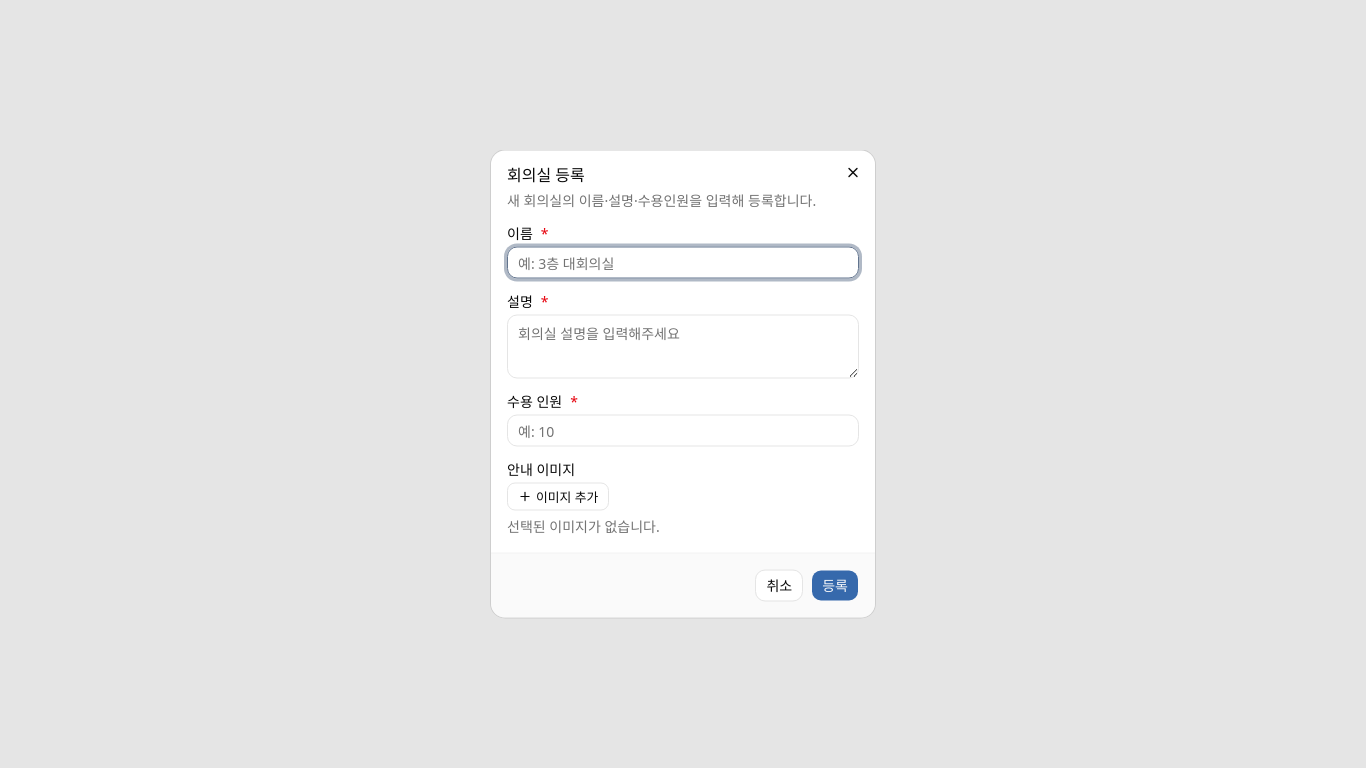
Test: MeetingRoomCreateDialog › 서버 검증 실패 시 다이얼로그가 닫히지 않고 root 에러가 표시된다(실패가 삼켜지지 않음)
In the field labelled "이름 *": (683, 262) [507,246,859,278], type "대회의실"
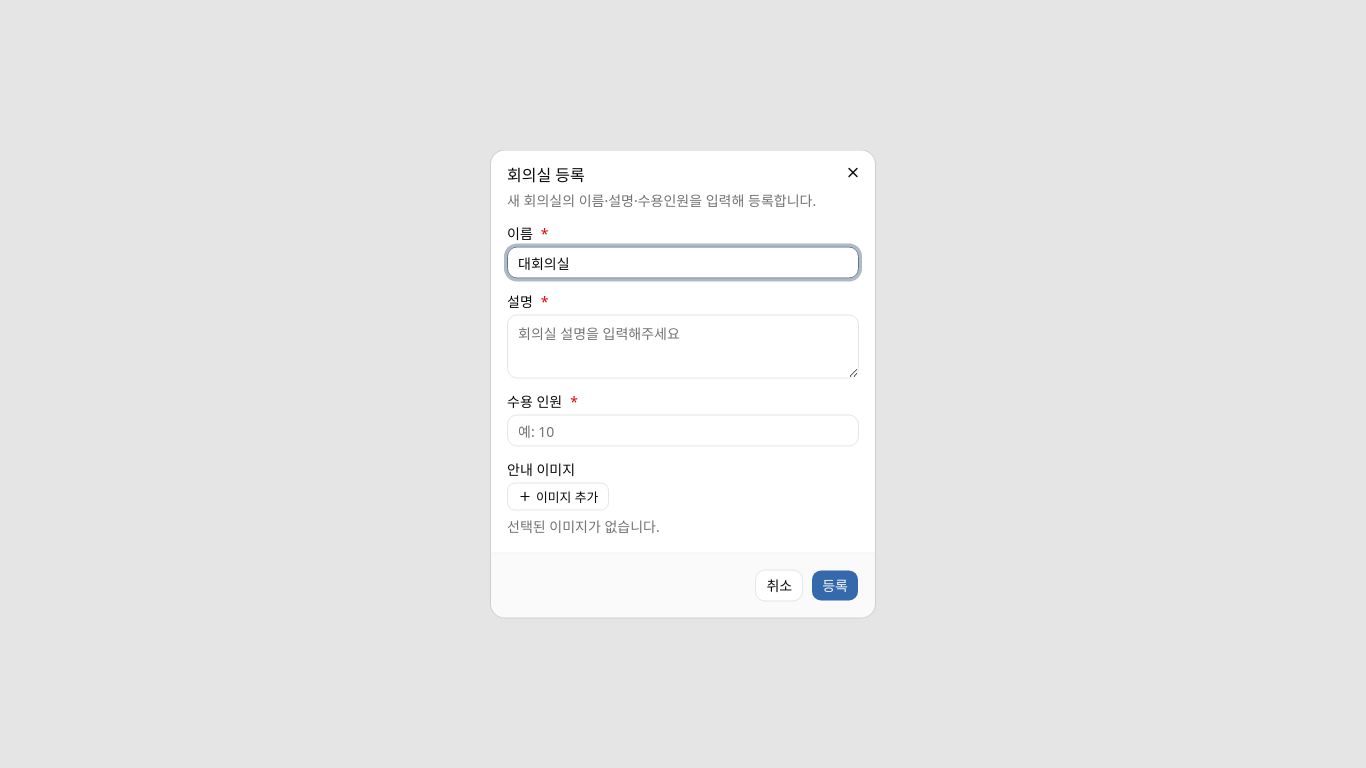
In the text box labelled "설명 *": (683, 346) [507,314,859,378], type "층별 대형 회의실"
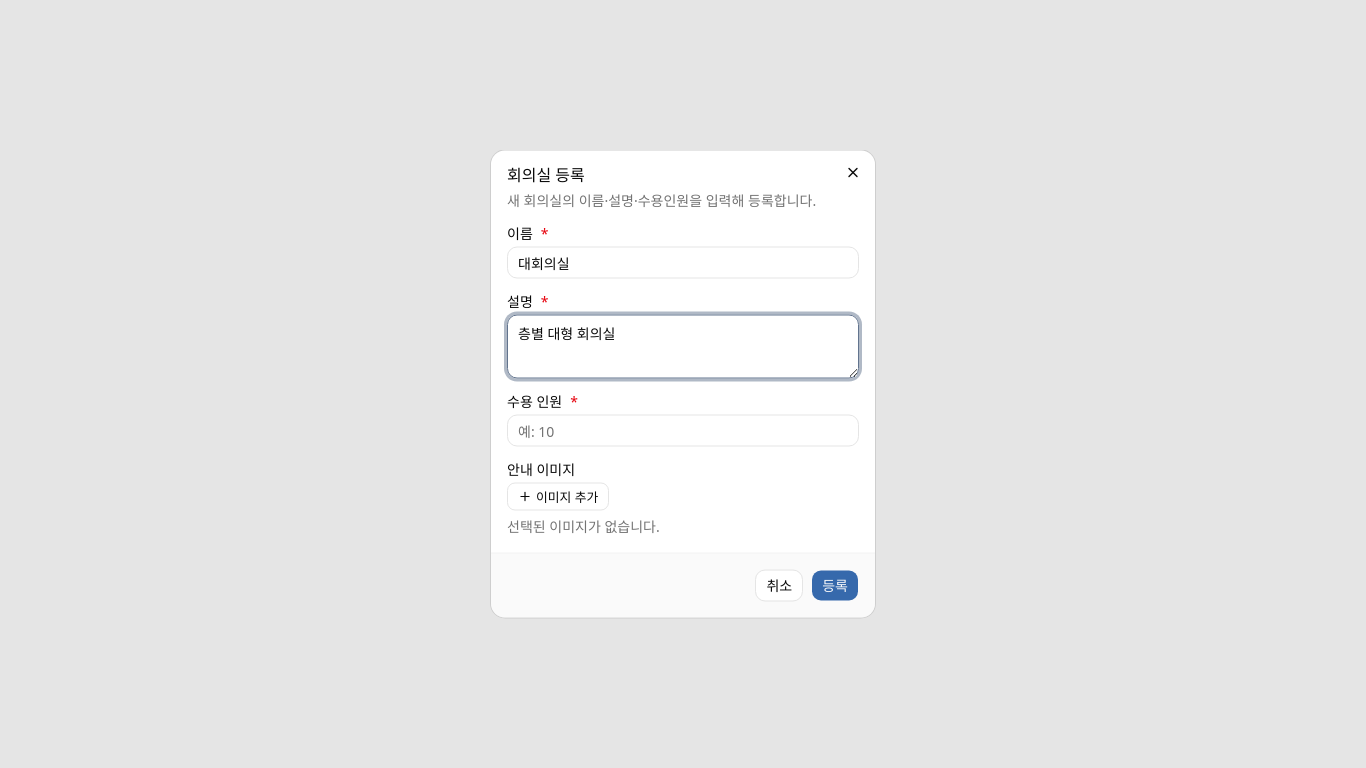
In the number field labelled "수용 인원 *": (683, 430) [507,414,859,446], type "12"
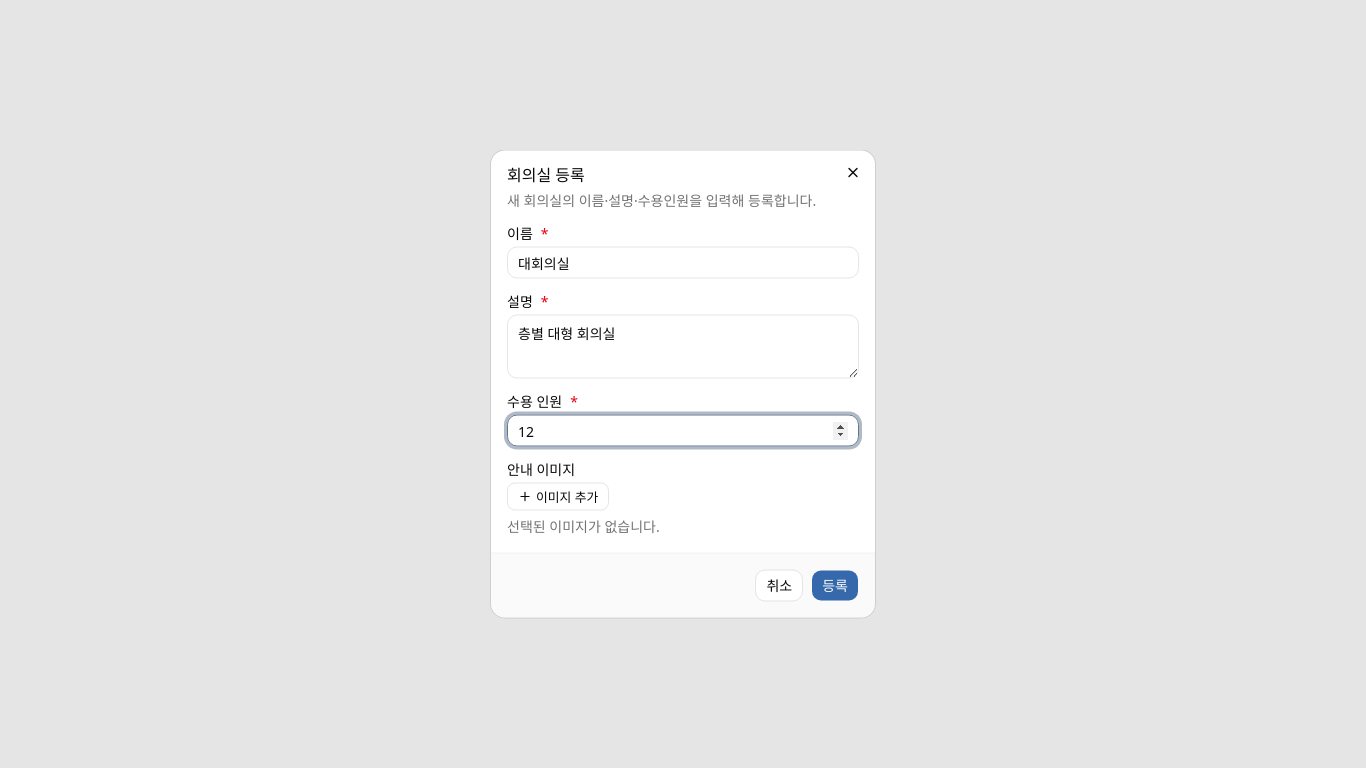
Click the button "등록": (835, 586) [811,570,859,602]
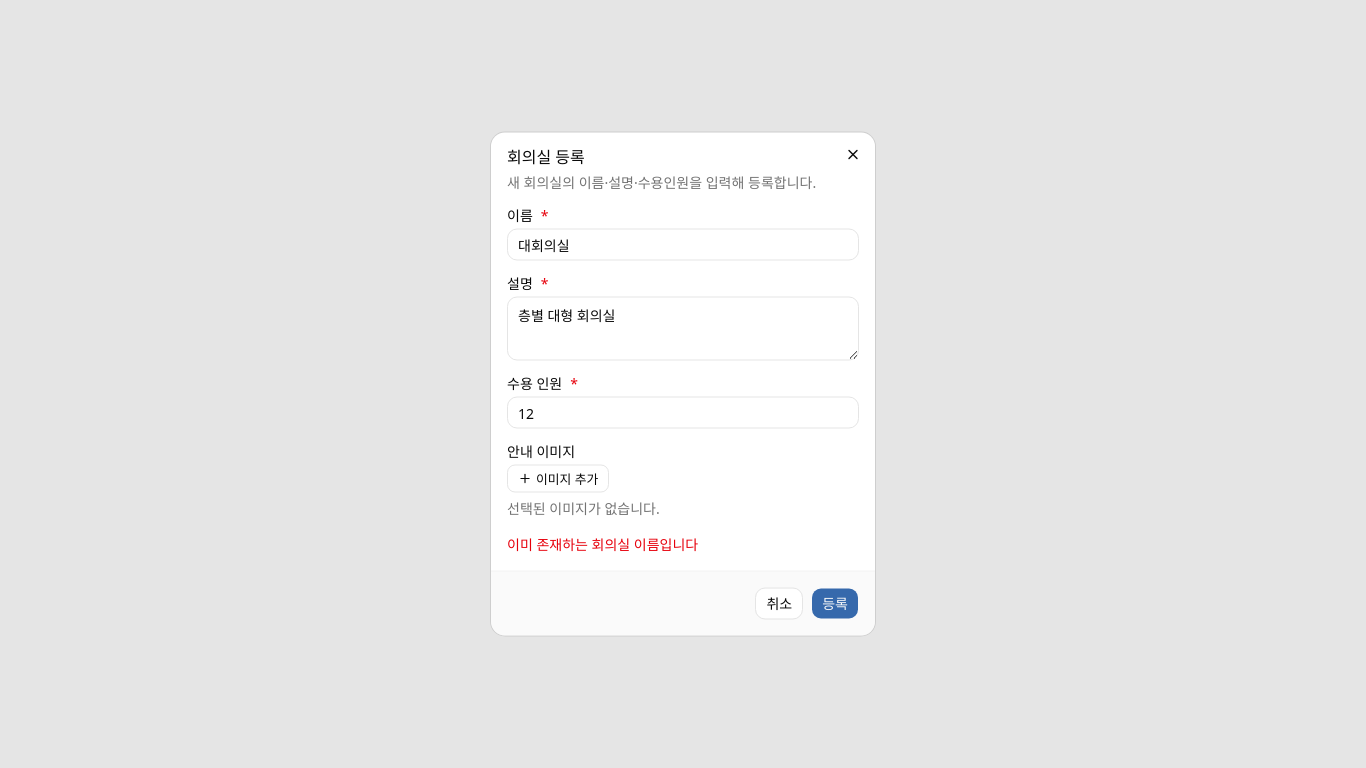
Result: the text "이미 존재하는 회의실 이름입니다" is shown at [507,534,698,554]
